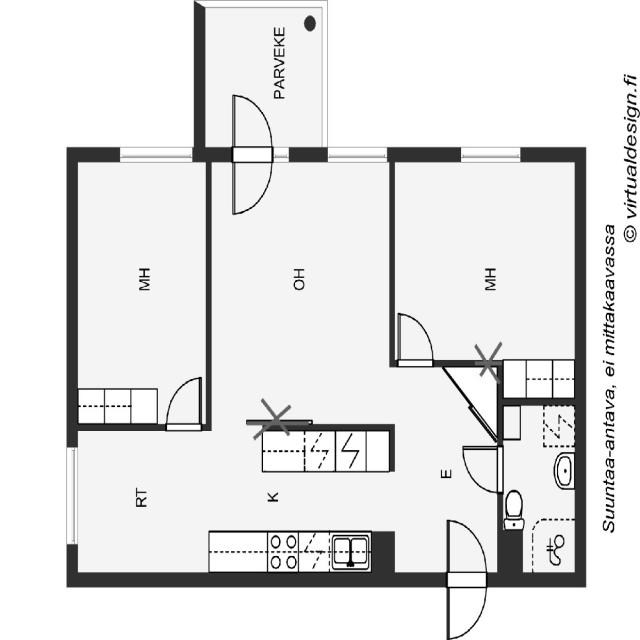door: (441, 515, 488, 640), (228, 94, 273, 216), (460, 439, 507, 493), (391, 305, 429, 363), (168, 378, 208, 432)
window: (113, 149, 193, 165), (326, 142, 385, 163), (70, 447, 80, 536), (459, 146, 513, 160)
zone: (208, 156, 392, 426), (76, 432, 392, 574), (393, 158, 577, 367), (74, 159, 208, 429), (504, 404, 579, 576)
